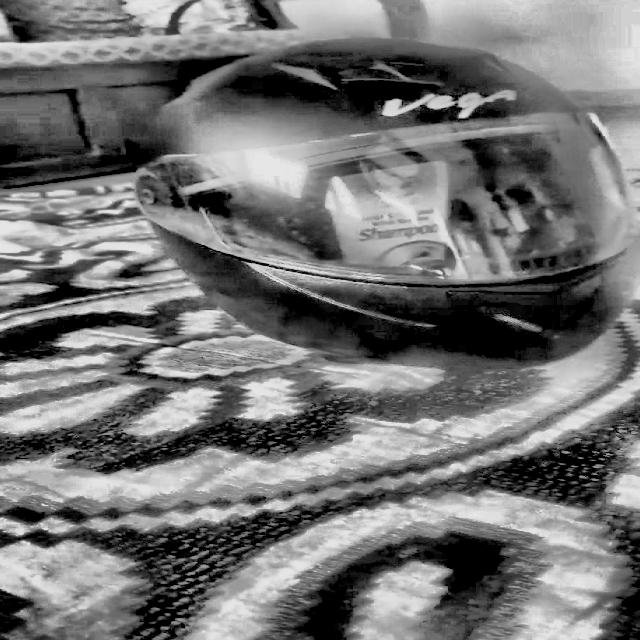Helmet: (115, 34, 640, 378)
